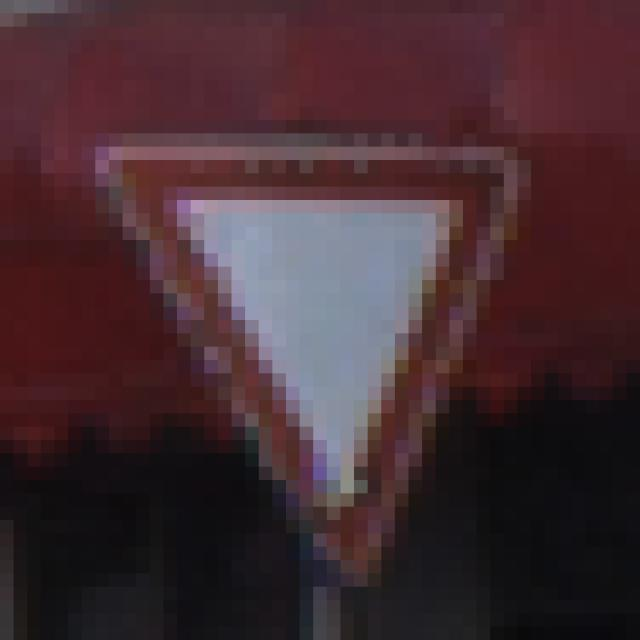Give Way: (69, 81, 573, 574)
